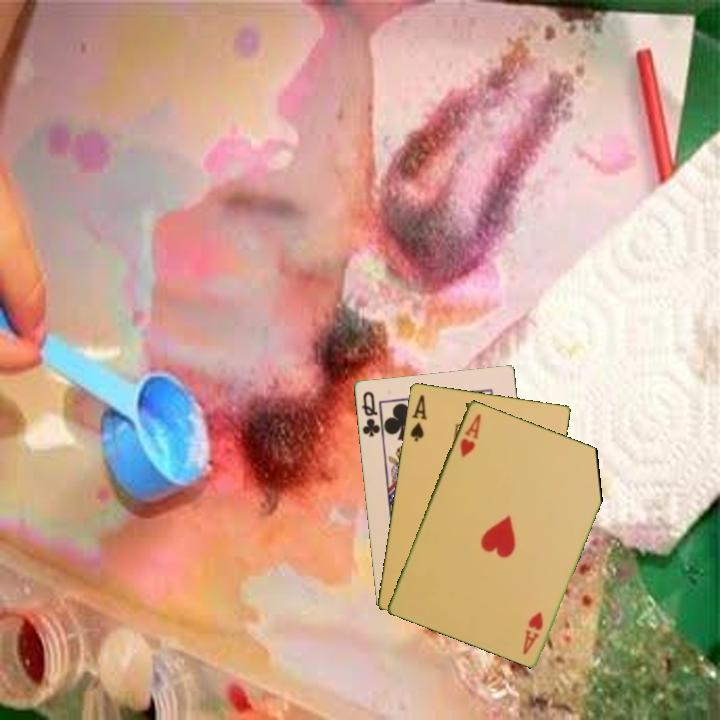Ah: (456, 410, 484, 461), (519, 607, 546, 657)
As: (407, 391, 429, 444)
Qc: (358, 388, 384, 440)
